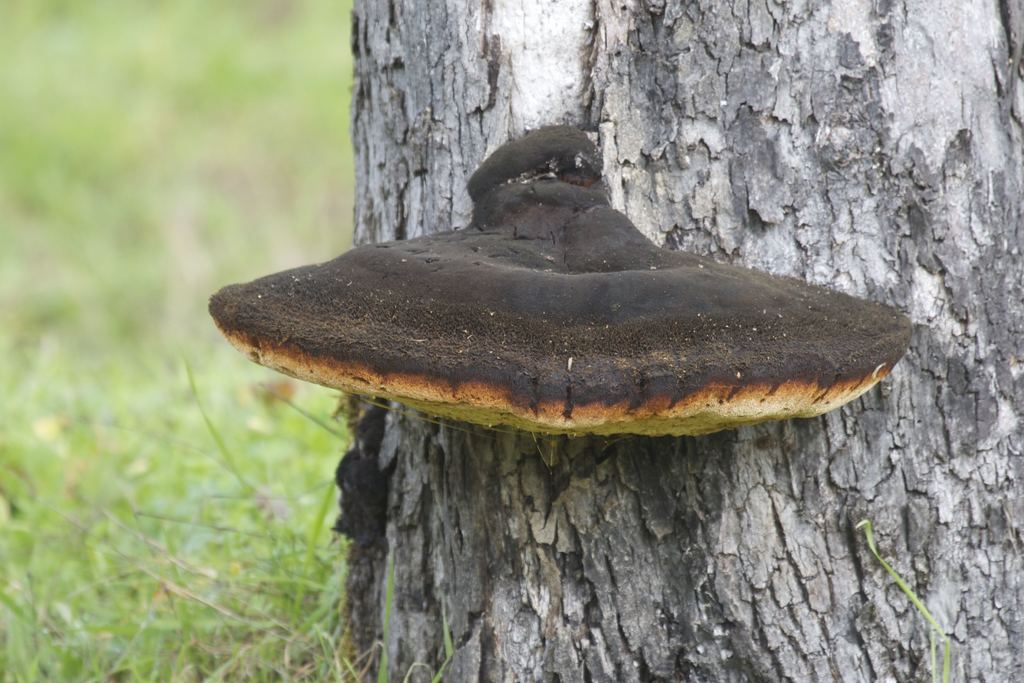Tree: (331, 0, 1024, 682)
